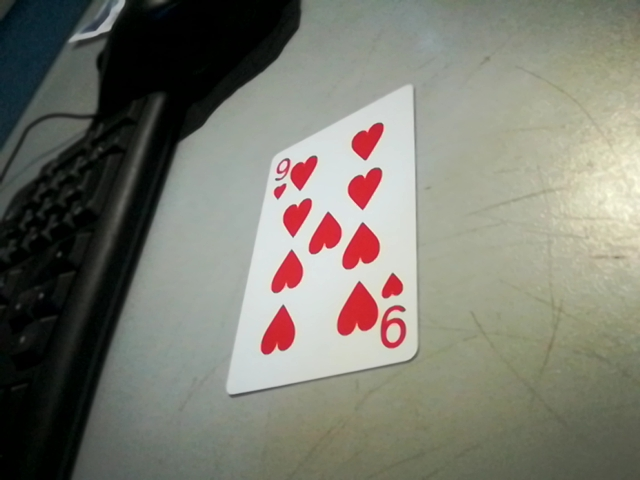hx 9: (378, 283, 416, 353)
